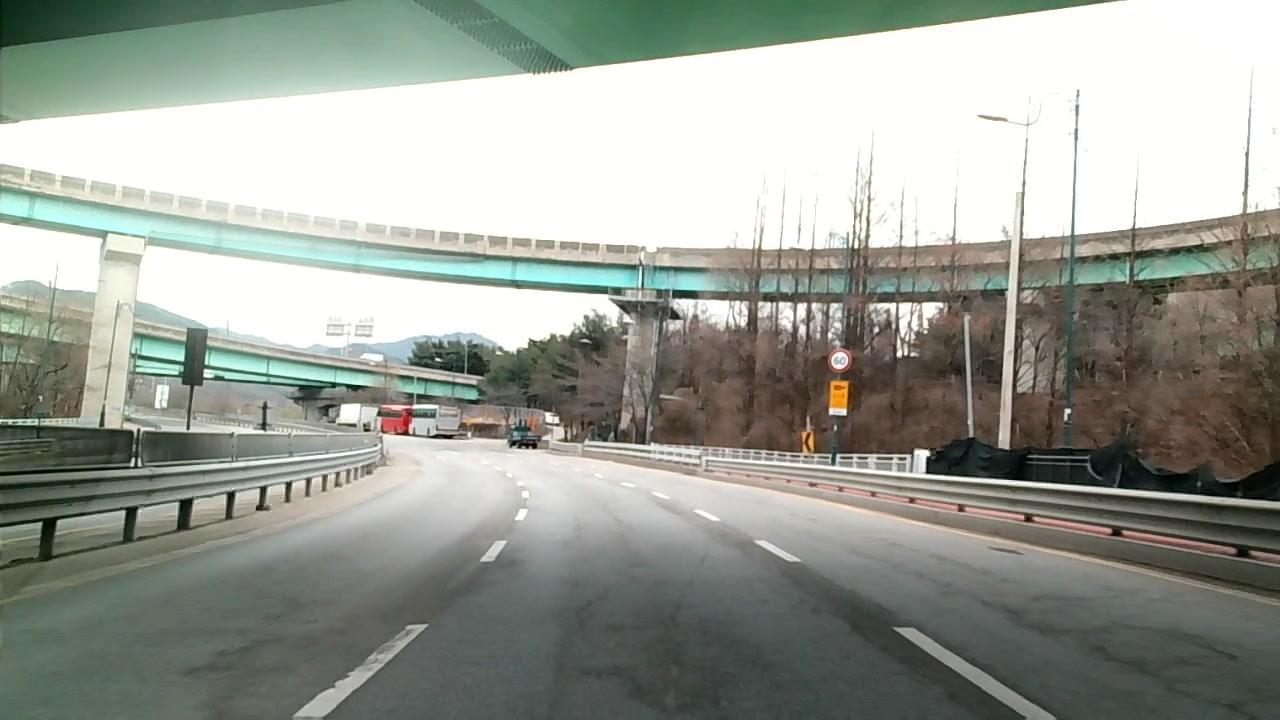banner: (1090, 641, 1264, 720), (846, 540, 971, 593), (170, 633, 277, 682), (972, 592, 1072, 642), (1094, 620, 1196, 639)
